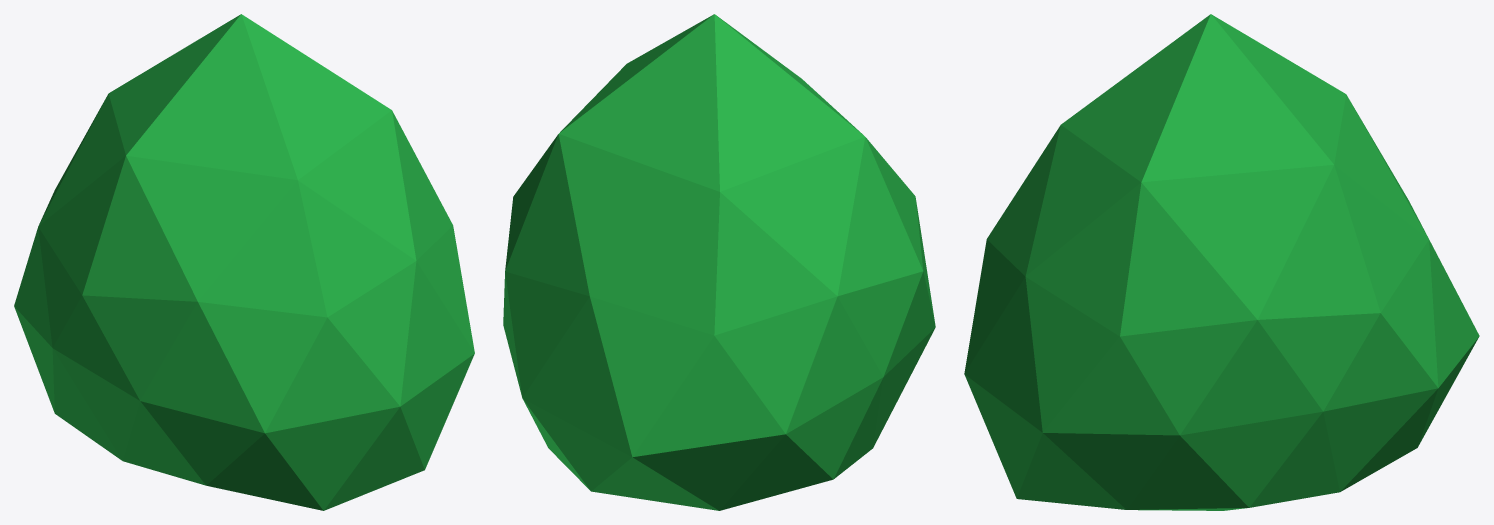
Rendered from Bush_model_1.fbx.
3 views of the same model, side by side, from view 1: azimuth 30°, elevation 25°; view 2: azimuth 150°, elevation 25°; view 3: azimuth 270°, elevation 25° (orthographic). The views are drawn at different scales.
Parts seen in each view (by area): view 1: Bushes; view 2: Bushes; view 3: Bushes.
Part boxes in pixels (x1=…): Bushes: x1=14, y1=14, x2=474, y2=510; Bushes: x1=503, y1=14, x2=935, y2=510; Bushes: x1=964, y1=14, x2=1479, y2=510.
Size of the model in its own units: 35.6 by 40.65 by 40.99.
